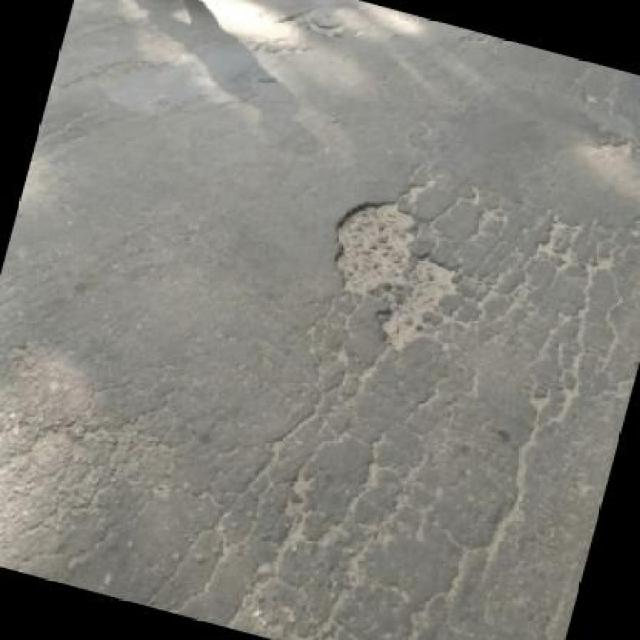pothole: (308, 182, 483, 364)
